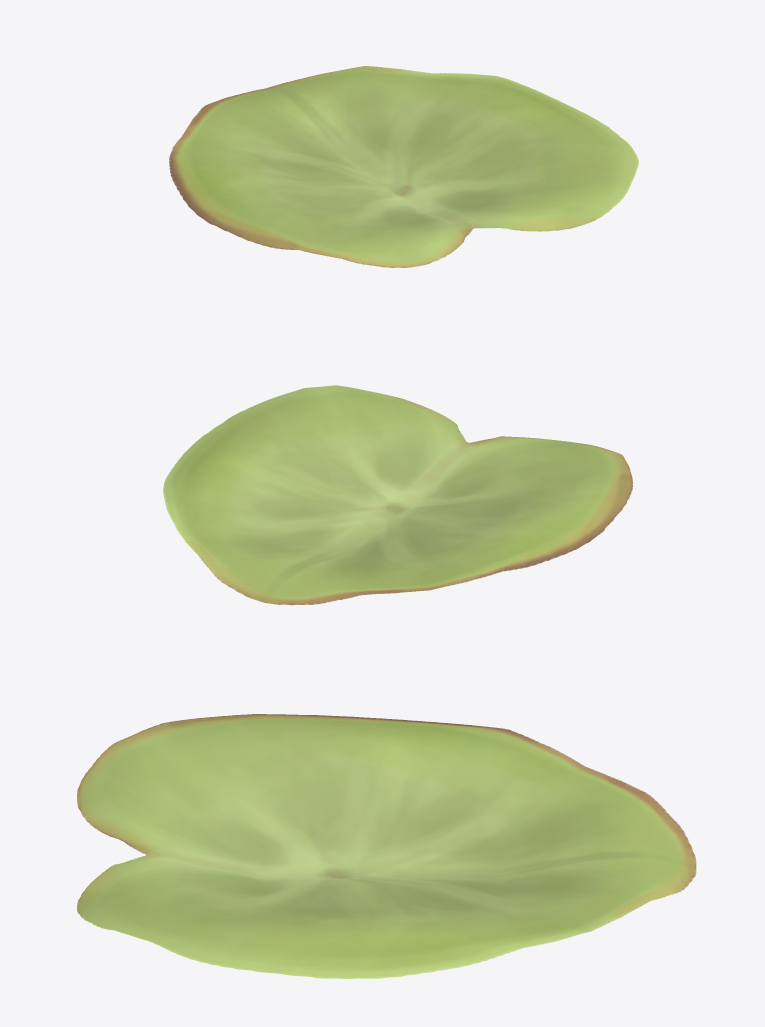
Rendered from LillyPad3.fbx.
The picture shows the model from 3 angles, top to bottom: view 1: azimuth 30°, elevation 25°; view 2: azimuth 150°, elevation 25°; view 3: azimuth 270°, elevation 25°; orthographic projection. The views are drawn at different scales.
Parts seen in each view (by area): view 1: LillyPad3; view 2: LillyPad3; view 3: LillyPad3.
Boxes of the visible parts, left/top/right/bottom form: LillyPad3: left=169, top=66, right=638, bottom=267; LillyPad3: left=163, top=385, right=632, bottom=605; LillyPad3: left=77, top=714, right=696, bottom=978.
Size of the model in its own units: 12.3 by 0.8419 by 12.68.
